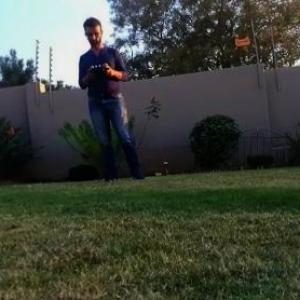follow: (76, 7, 151, 186)
